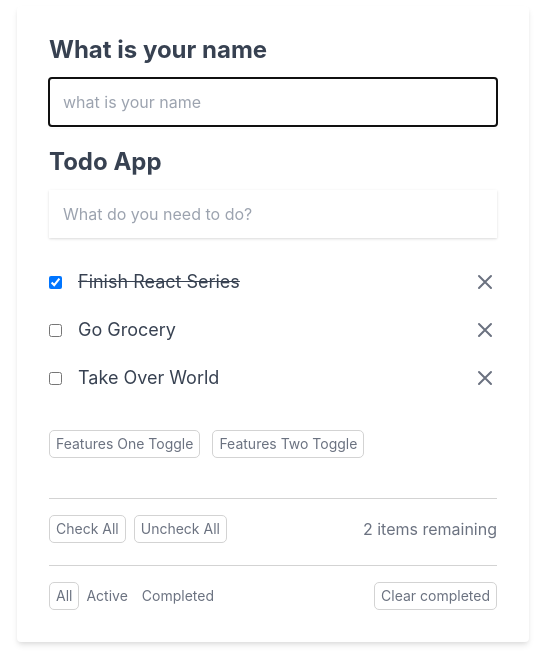
Test: can check all todos
What coordinates should you click on to do the following:
click the button "Check All"
I would click on:
 (87, 529)
Its box is [49,515,126,543].
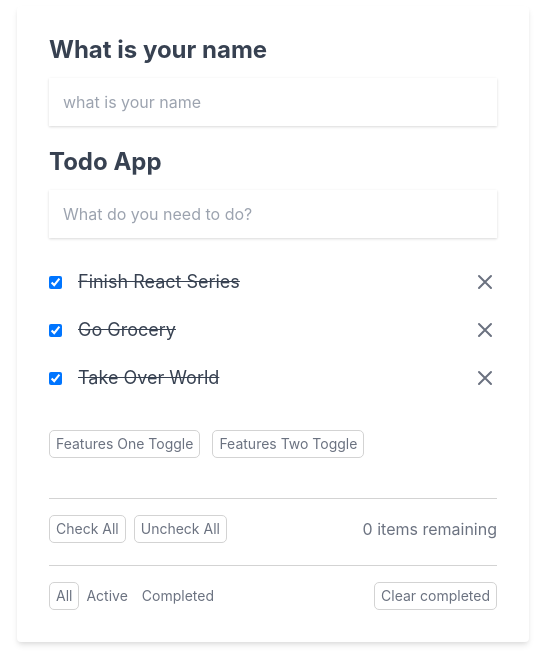
Expected: the text "0 items remaining" is shown, [363,521,497,537]
